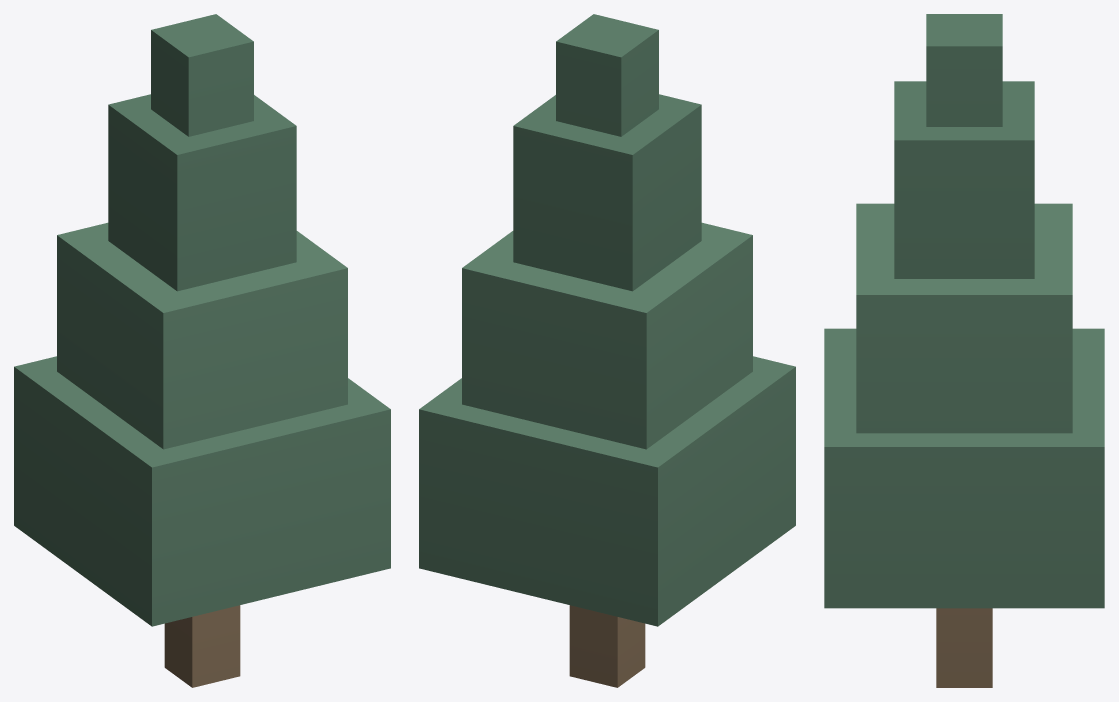
Rendered from tree_pine.glb.
3 views of the same model, side by side, from view 1: azimuth 30°, elevation 25°; view 2: azimuth 150°, elevation 25°; view 3: azimuth 270°, elevation 25° (orthographic).
Visible parts, largest first — view 1: root; view 2: root; view 3: root.
Boxes of the visible parts, x1,y1,x2,y2 form: root: (14,14,390,687); root: (419,14,795,687); root: (824,14,1104,687).
Bounding box in the file's own units: 1.1 × 2.8 × 1.1.
